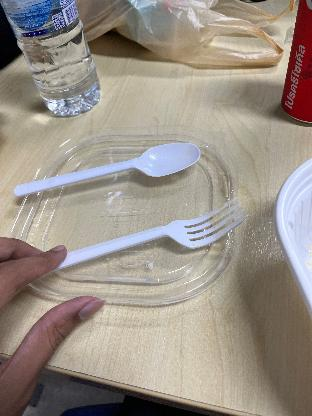Others: (34, 186, 262, 288), (8, 124, 212, 212)
